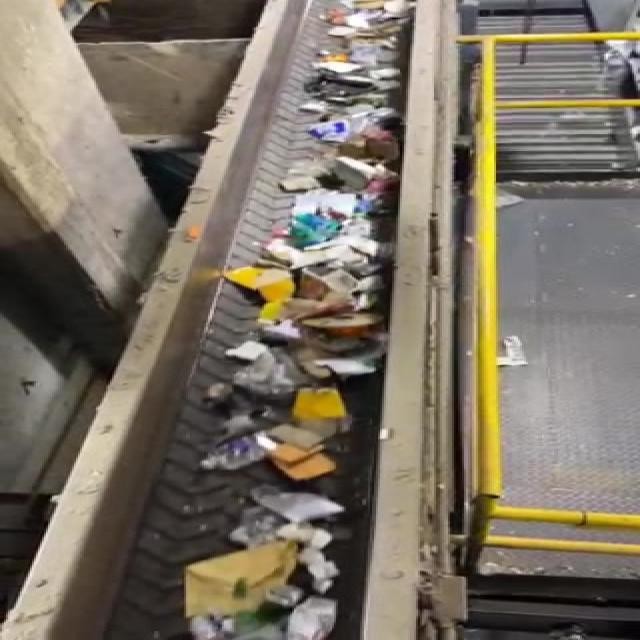paper: (170, 542, 311, 616)
